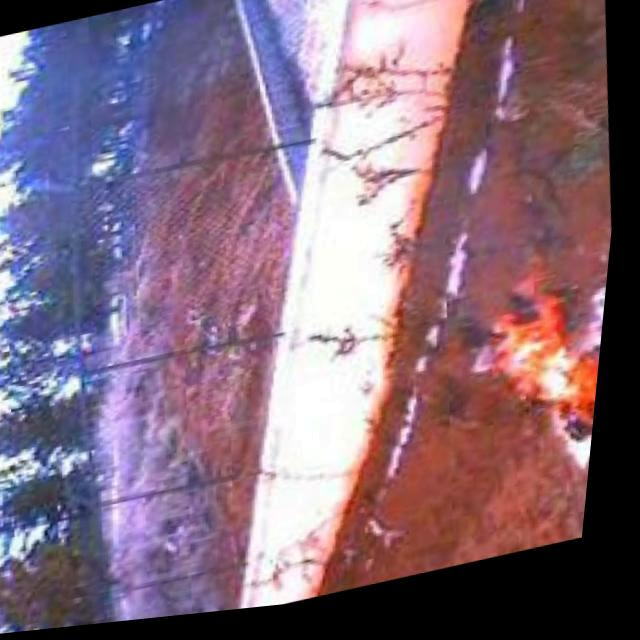fire: (467, 262, 617, 482)
